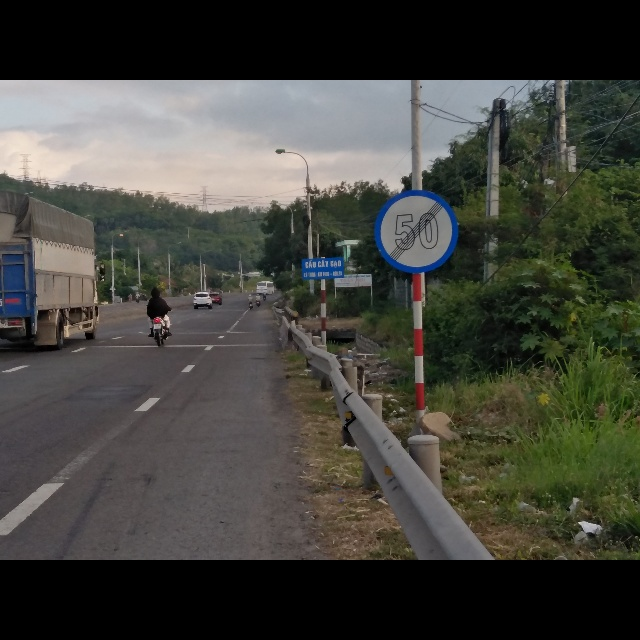Hết hạn chế tốc độ tối đa 50km/h: (372, 187, 459, 275)
